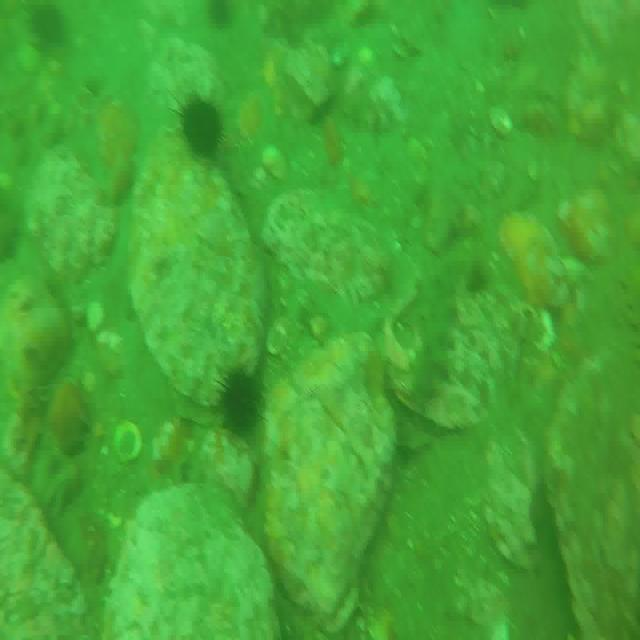echinus: (218, 368, 262, 436), (180, 94, 223, 158), (207, 0, 234, 31)
